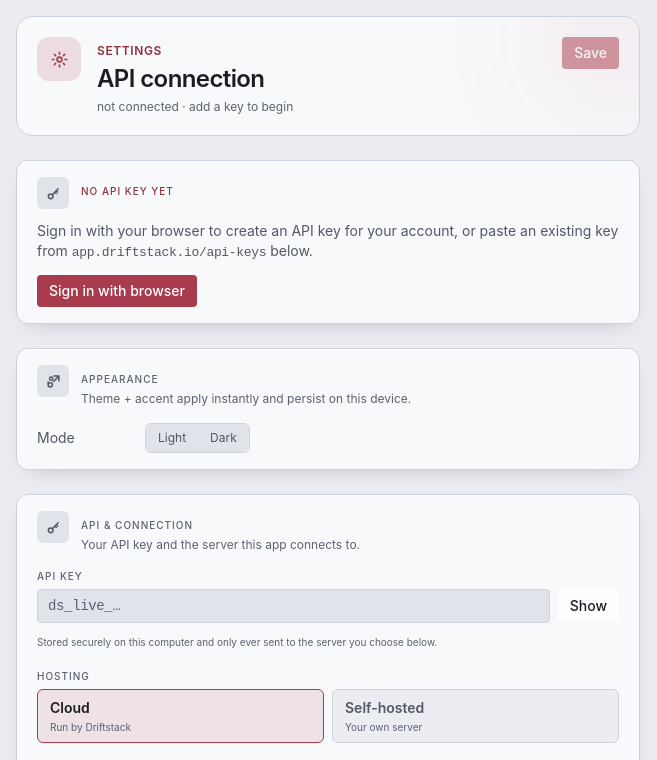
Test case: SettingsView (V-288 jsdom + RTL foundation) › aborts post-save key validation on unmount
Type "ds_live_new_key" into the password field with placeholder "ds_live_…" at (293, 606), box [37,589,550,623]
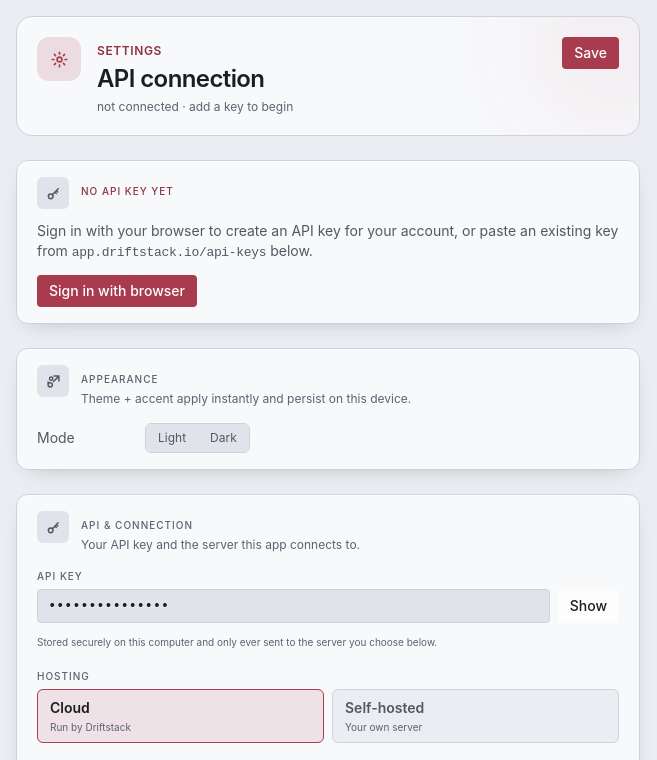
Click the button "Save" at (591, 53), box [562,37,619,69]
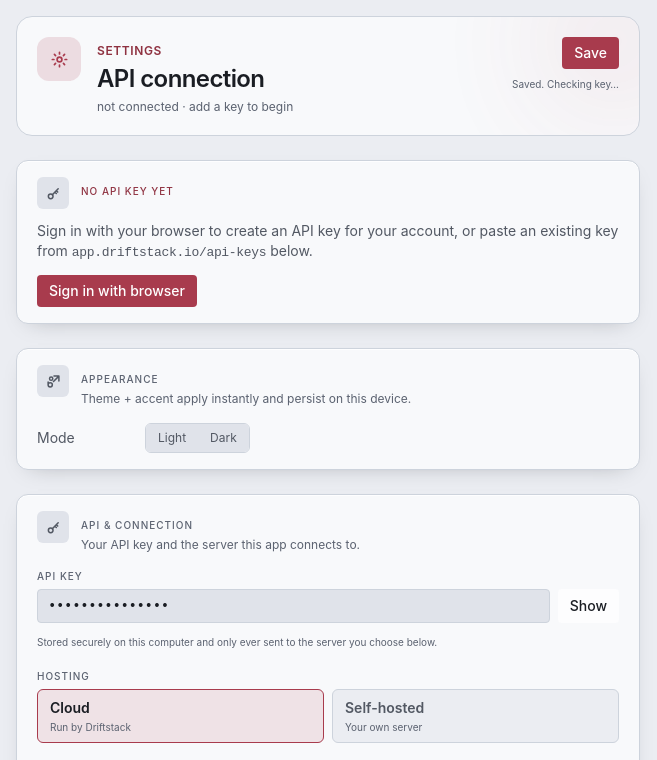
Expected: the text "Saved. Checking key…" is shown, [512,77,619,91]
